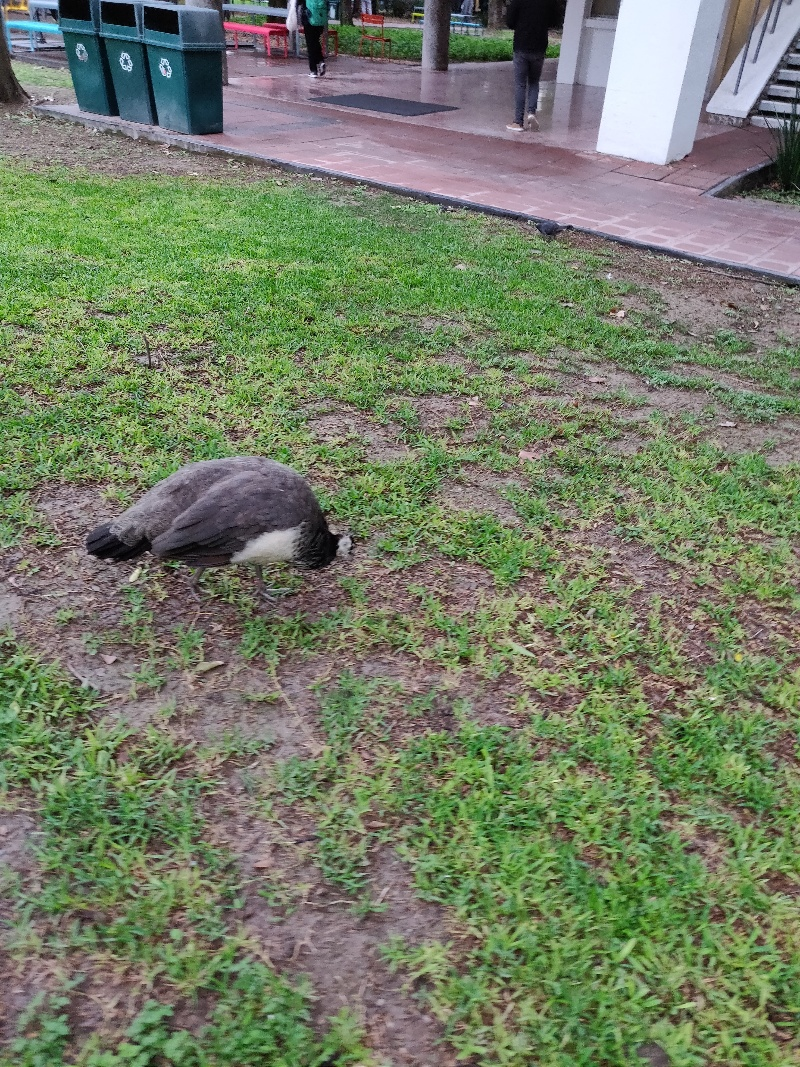pavoreal: (73, 453, 352, 579)
